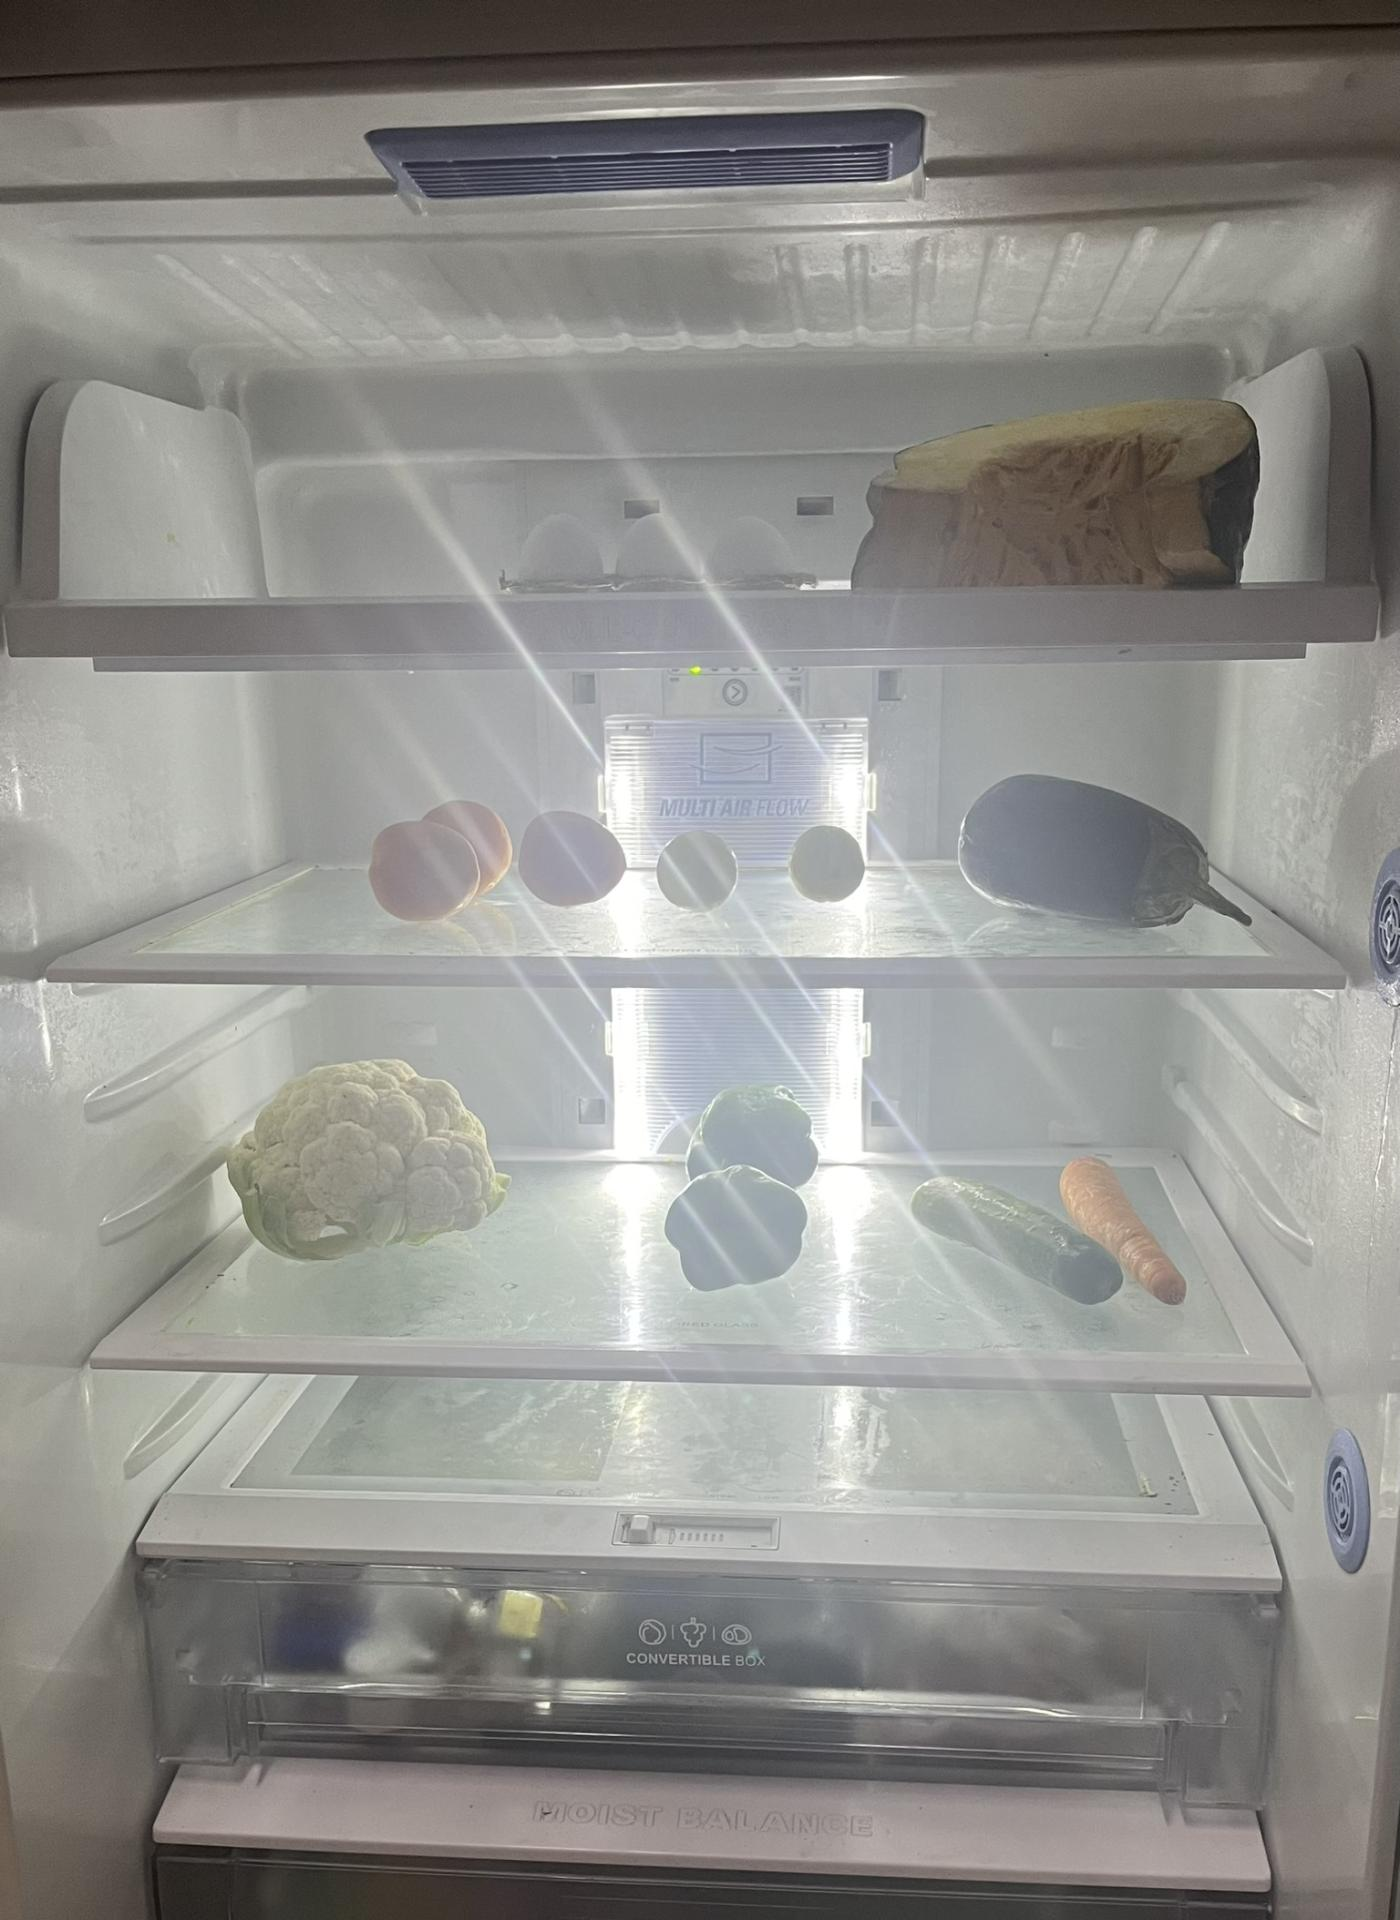capsicum: (677, 1075, 823, 1300)
carrots: (1042, 1143, 1200, 1306)
cauliflower: (225, 1054, 510, 1266)
cucumber: (911, 1172, 1136, 1297)
egg: (529, 502, 805, 578)
lemon: (784, 821, 869, 906), (662, 835, 741, 912)
pumpkin: (857, 385, 1267, 596)
tomato: (364, 790, 507, 918), (504, 812, 629, 900)
